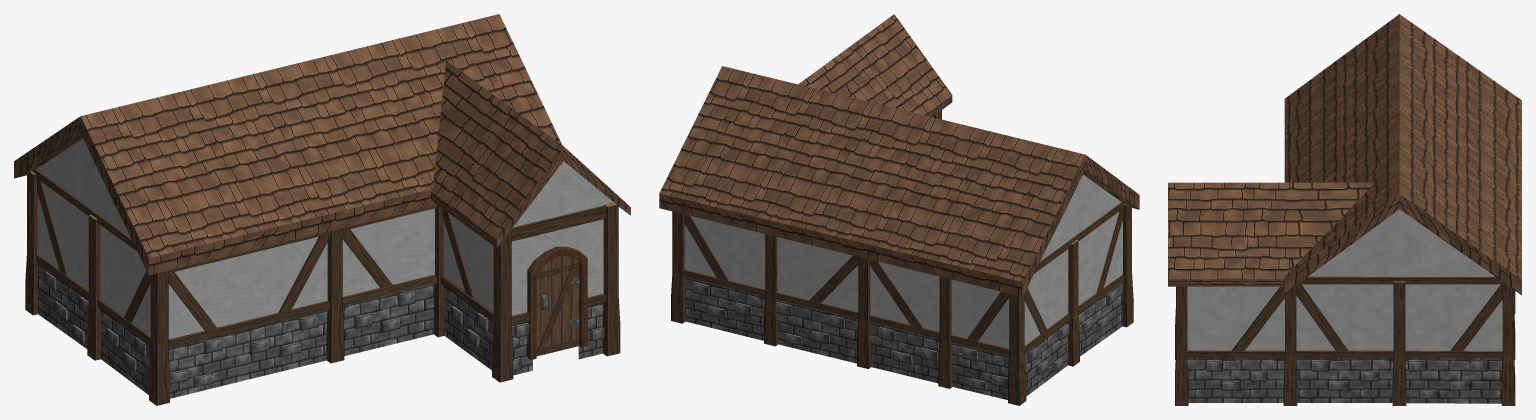
Rendered from Building_a.FBX.
The picture shows the model from 3 angles, left to right: view 1: azimuth 30°, elevation 25°; view 2: azimuth 150°, elevation 25°; view 3: azimuth 270°, elevation 25°; orthographic projection. The views are drawn at different scales.
Parts seen in each view (by area): view 1: Building_a; view 2: Building_a; view 3: Building_a.
Boxes of the visible parts, <box> form: Building_a: <box>14,14,630,405</box>; Building_a: <box>659,14,1139,405</box>; Building_a: <box>1168,14,1521,405</box>.
Bounding box in the file's own units: 496 × 409 × 275.
